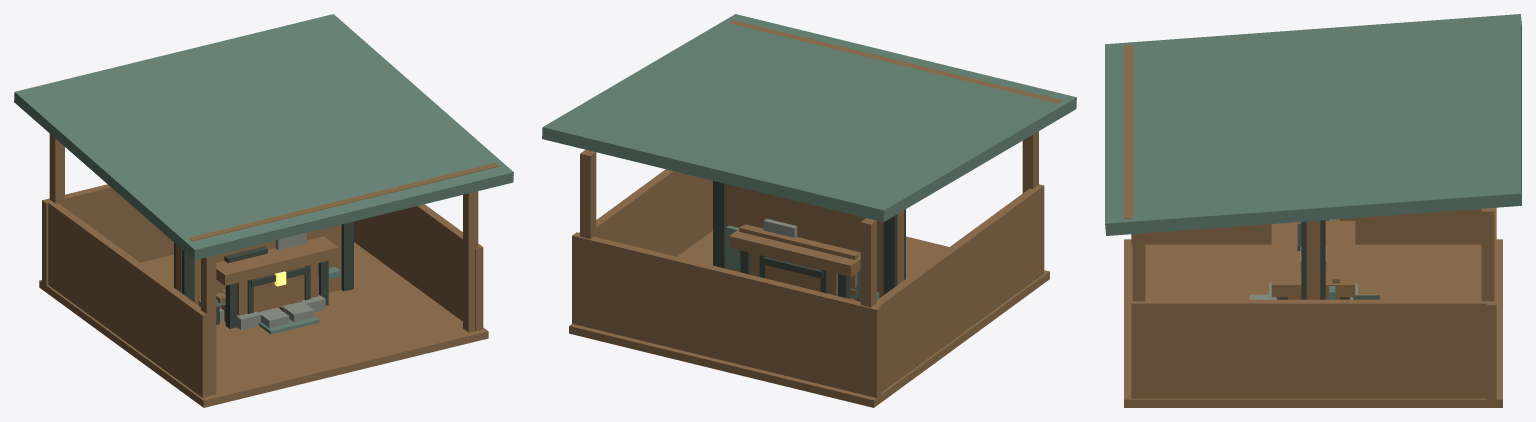
The model's file is settlement-models.glb.
3 views of the same model, side by side, from view 1: azimuth 30°, elevation 25°; view 2: azimuth 150°, elevation 25°; view 3: azimuth 270°, elevation 25° (orthographic). The views are drawn at different scales.
Parts seen in each view (by area): view 1: shelter, workbench, wall, stash, hearth, cafe-table; view 2: shelter, wall, workbench, stash, cafe-table, bench; view 3: shelter, workbench, wall, bench.
Part boxes in pixels (x1,y1,x2,y2): shelter: [14, 14, 513, 407]; workbench: [216, 233, 338, 328]; wall: [174, 221, 353, 308]; stash: [237, 263, 318, 315]; hearth: [219, 295, 325, 330]; cafe-table: [198, 267, 340, 324]; shelter: [542, 14, 1076, 407]; wall: [713, 181, 905, 300]; workbench: [729, 218, 860, 298]; stash: [751, 253, 837, 295]; cafe-table: [726, 225, 879, 301]; bench: [739, 225, 858, 295]; shelter: [1105, 14, 1521, 407]; workbench: [1271, 221, 1355, 299]; wall: [1301, 220, 1325, 299]; bench: [1332, 219, 1339, 299].
Size of the model in its own units: 5.6 by 3.26 by 5.5.
